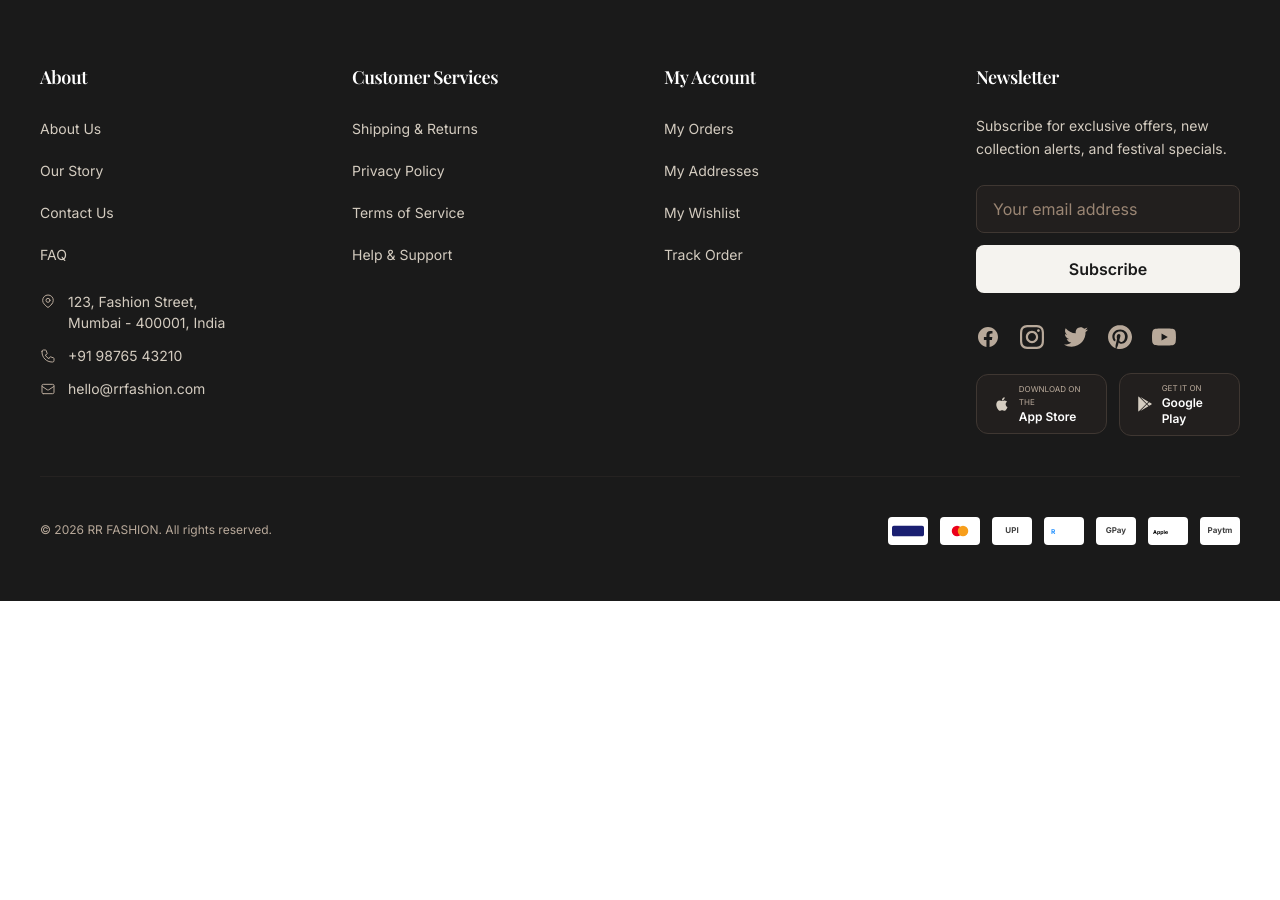
Test: Footer › shows error for invalid email
The width and height of the screenshot is (1280, 900).
Type "invalid-email" into the field named "Email address for newsletter subscription" at (1108, 208), box [976, 184, 1240, 232]
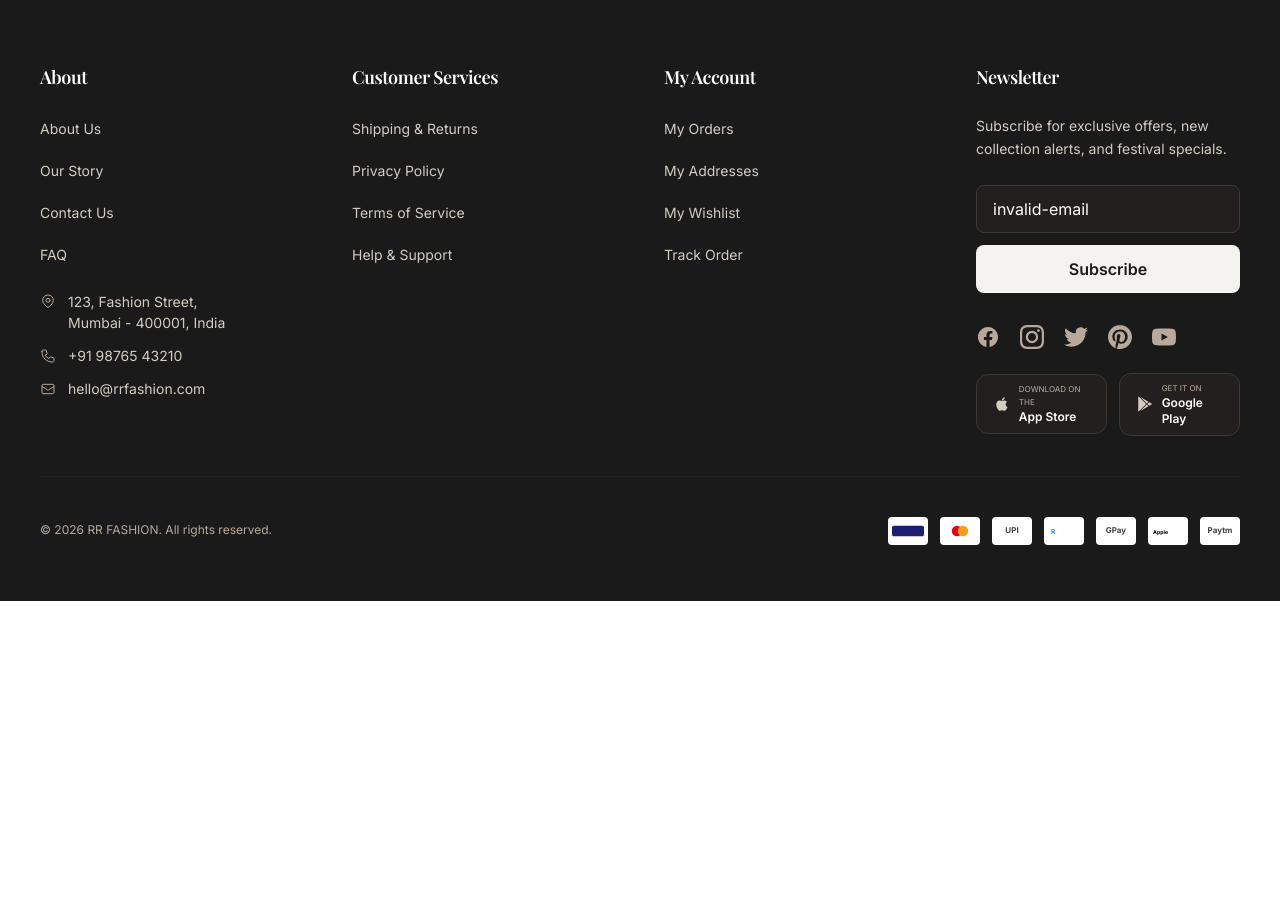
Click the button "Subscribe" at (1108, 268), box [976, 244, 1240, 292]
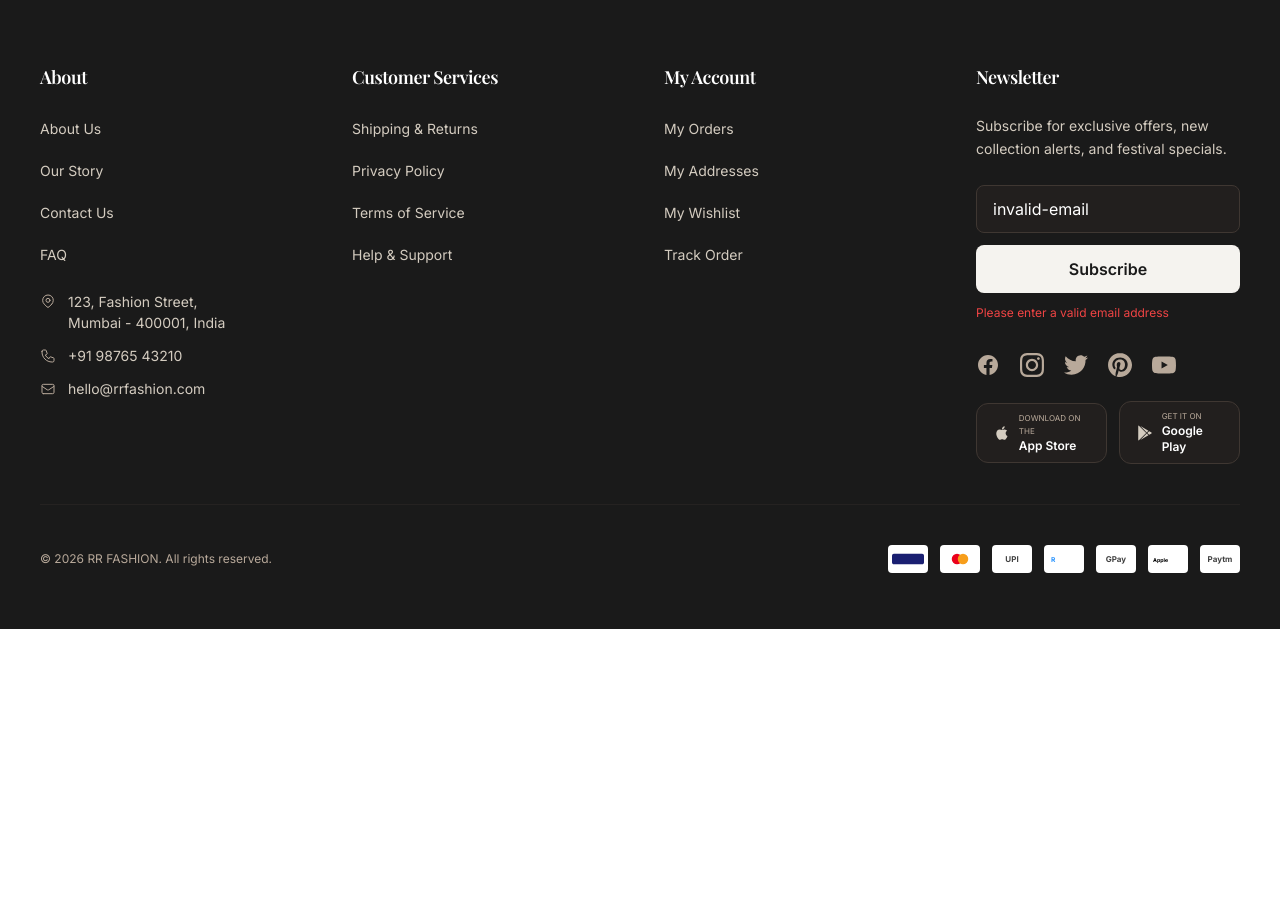
Check: the text "Please enter a valid email address" is shown, box [976, 304, 1169, 320]
